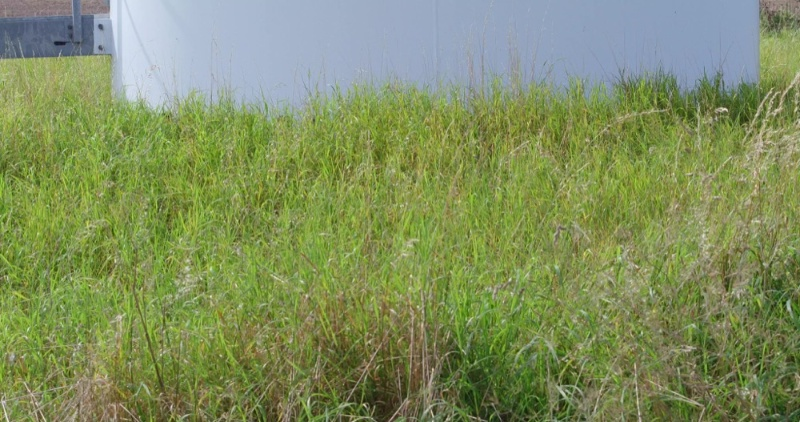weldseam: (429, 1, 444, 93)
